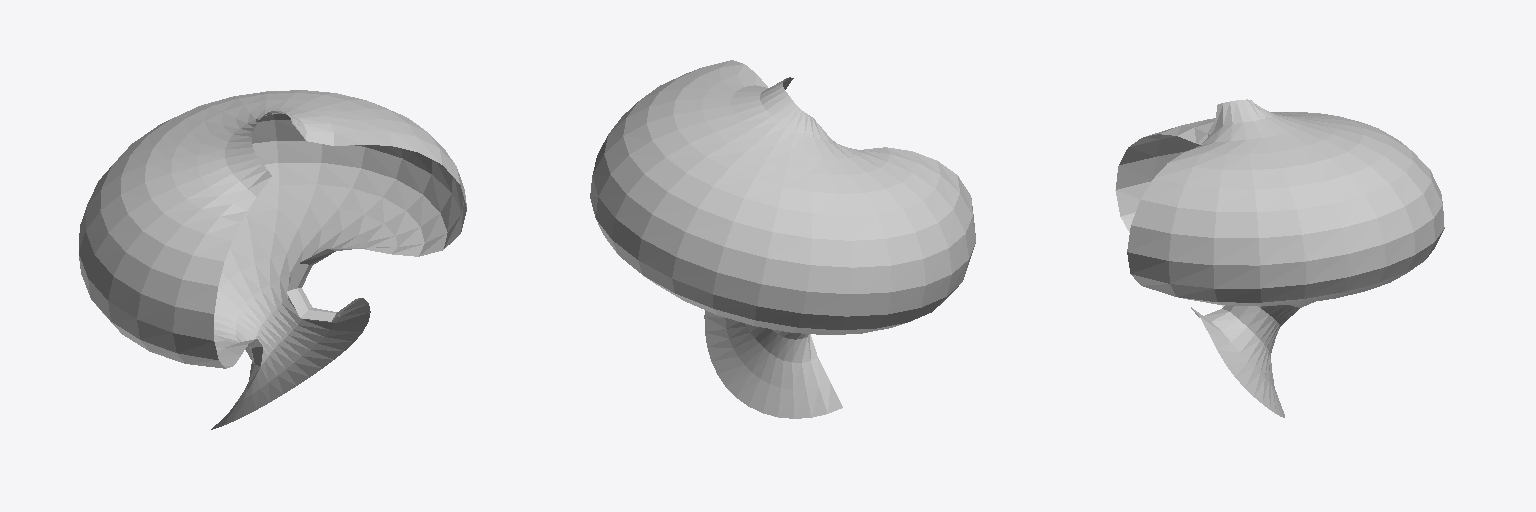
The model's file is Rot_ex_4_A_25_start.obj.
3 views of the same model, side by side, from view 1: azimuth 30°, elevation 25°; view 2: azimuth 150°, elevation 25°; view 3: azimuth 270°, elevation 25° (orthographic).
Visible parts, largest first — view 1: [local-path]/hanan/hananLab/QS_project/data/Remeshing/Rot_ex_4_A; view 2: [local-path]/hanan/hananLab/QS_project/data/Remeshing/Rot_ex_4_A; view 3: [local-path]/hanan/hananLab/QS_project/data/Remeshing/Rot_ex_4_A.
Part boxes in pixels (left/top/right/bottom): [local-path]/hanan/hananLab/QS_project/data/Remeshing/Rot_ex_4_A: left=79, top=90, right=466, bottom=429; [local-path]/hanan/hananLab/QS_project/data/Remeshing/Rot_ex_4_A: left=590, top=60, right=975, bottom=418; [local-path]/hanan/hananLab/QS_project/data/Remeshing/Rot_ex_4_A: left=1115, top=99, right=1444, bottom=417.
Bounding box in the file's own units: 5.58 × 5.09 × 4.79.